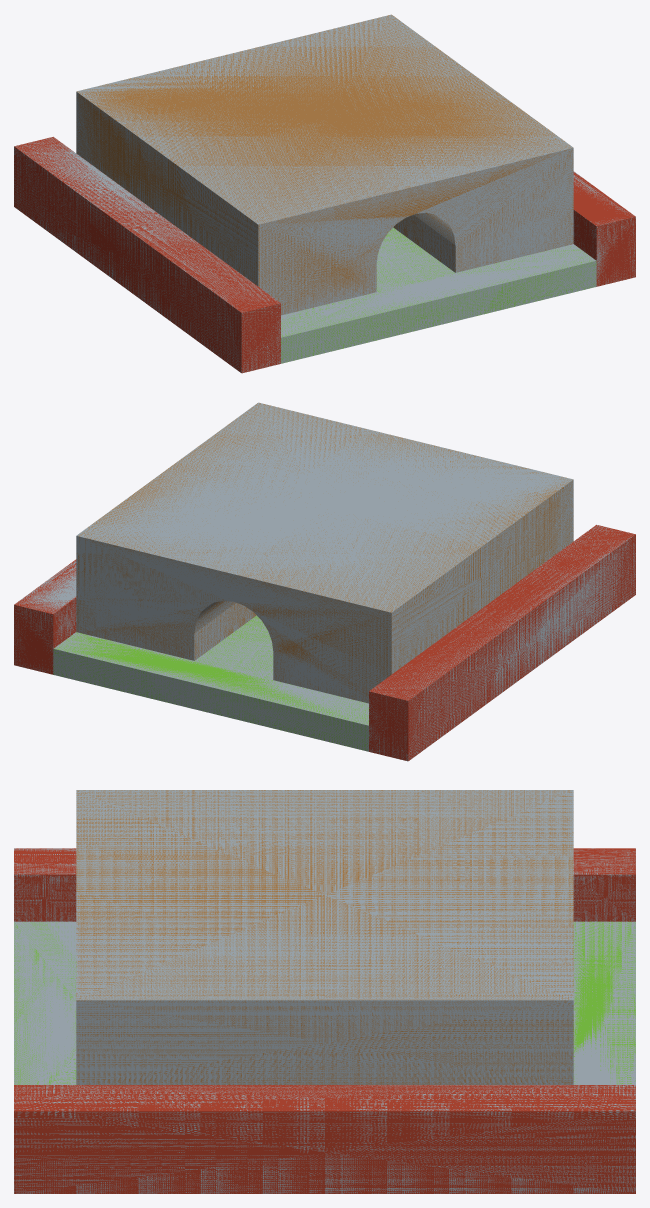
File: Tunnel_narrow_01.obj
3 views of the same model, one above another, from view 1: azimuth 30°, elevation 25°; view 2: azimuth 150°, elevation 25°; view 3: azimuth 270°, elevation 25° (orthographic). The views are drawn at different scales.
Visible parts, largest first — view 1: Mesh1 Tunnel_narrow Model; view 2: Mesh1 Tunnel_narrow Model; view 3: Mesh1 Tunnel_narrow Model.
Part boxes in pixels (box(x1,y1,x2,y2)): Mesh1 Tunnel_narrow Model: box(14, 14, 635, 373); Mesh1 Tunnel_narrow Model: box(14, 402, 635, 761); Mesh1 Tunnel_narrow Model: box(14, 790, 635, 1193).
Bounding box in the file's own units: 3 × 0.89 × 3.
